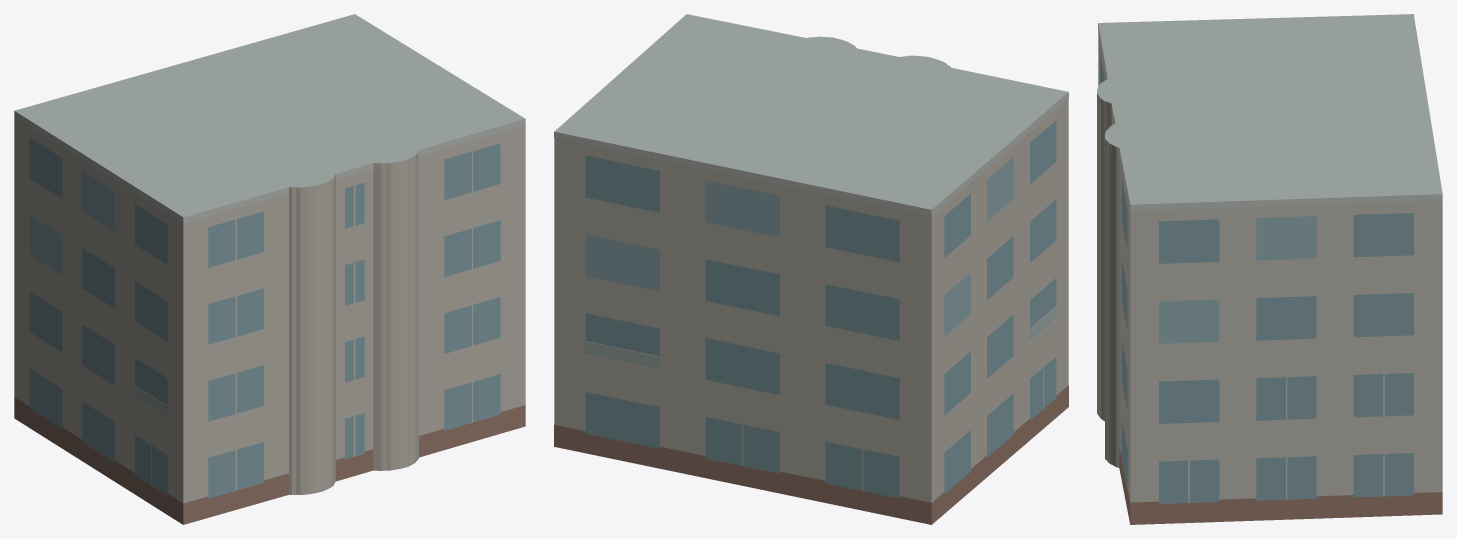
File: survey-upis-32908105.glb
3 views of the same model, side by side, from view 1: azimuth 30°, elevation 25°; view 2: azimuth 150°, elevation 25°; view 3: azimuth 270°, elevation 25° (orthographic). The views are drawn at different scales.
Visible parts, largest first — view 1: survey-upis-32908105.tmp; view 2: survey-upis-32908105.tmp; view 3: survey-upis-32908105.tmp.
Boxes of the visible parts, x1,y1,x2,y2 form: survey-upis-32908105.tmp: [14, 14, 525, 524]; survey-upis-32908105.tmp: [554, 14, 1068, 524]; survey-upis-32908105.tmp: [1097, 14, 1442, 524].
Bounding box in the file's own units: 15.59 × 12.2 × 11.94.
